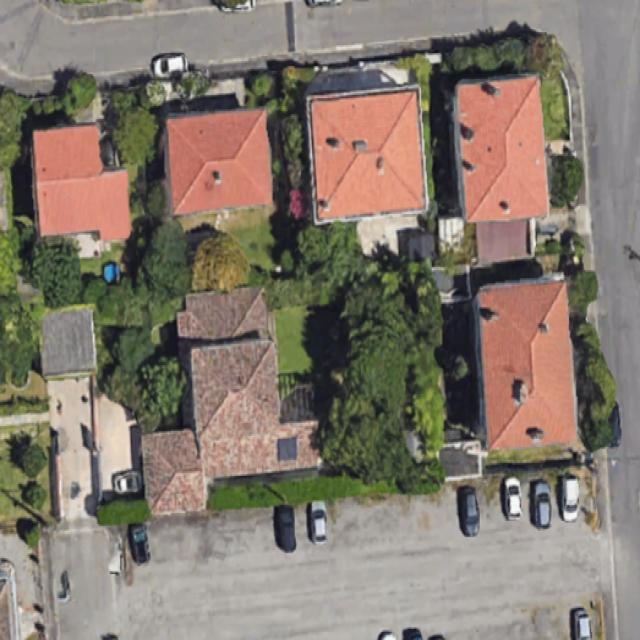maison: (127, 285, 323, 513), (454, 76, 549, 265), (302, 85, 431, 224), (472, 280, 577, 446), (30, 121, 130, 245), (163, 108, 272, 216)
